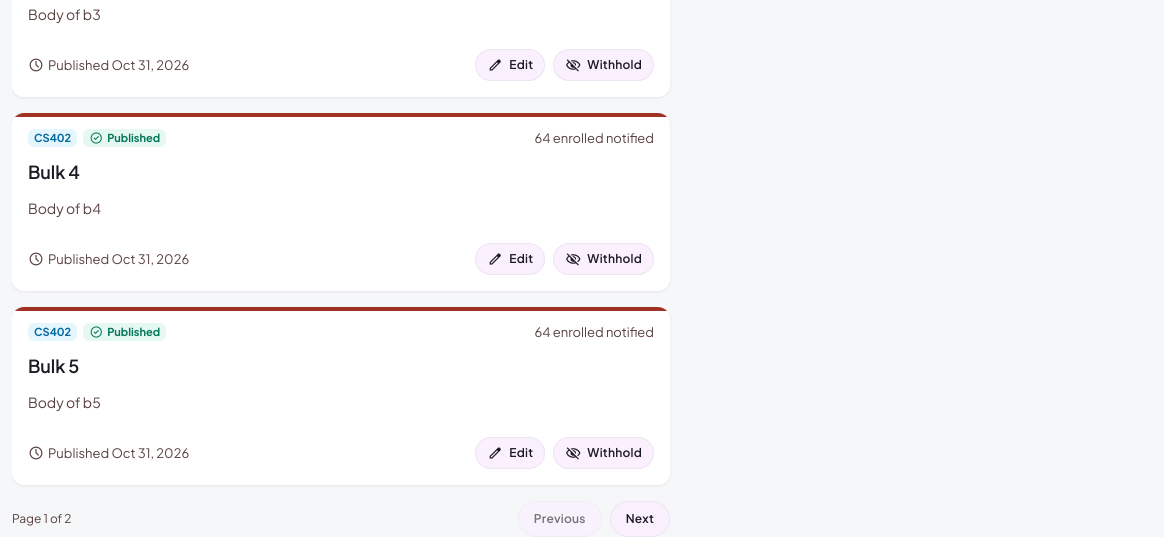
Scenario: feed › pages through long lists and expands long messages
This screenshot has width=1164, height=537.
(page scrolled)
Expected: the text "Page 1 of 2" is shown, [12, 510, 72, 528]
Click the button "Next": (640, 519) [610, 501, 670, 536]
(page scrolled)
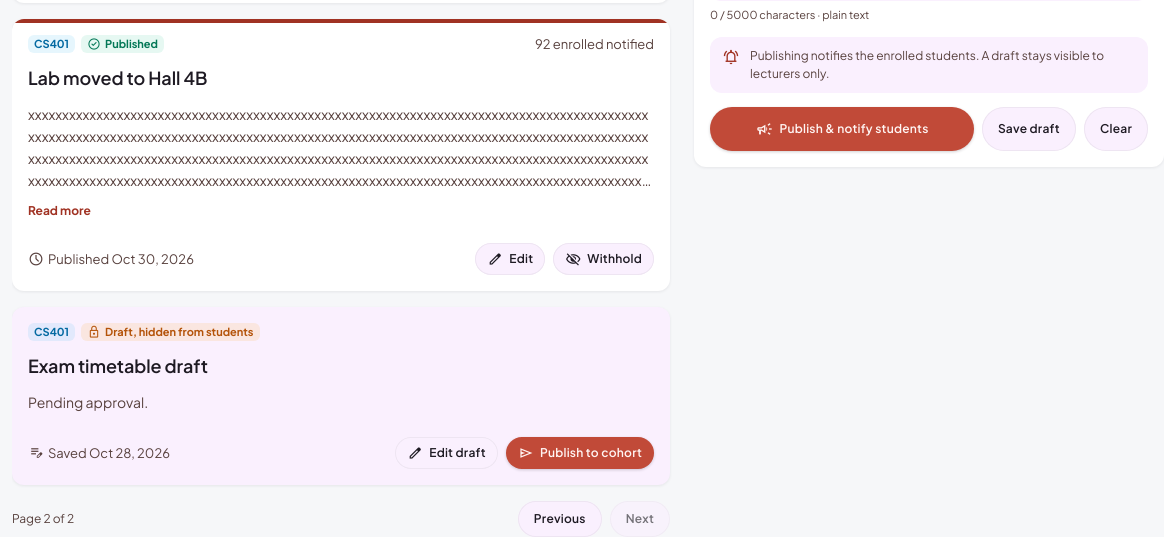
Expected: the text "Page 2 of 2" is shown, [12, 510, 74, 528]
Click the button "Read more": (59, 211) [28, 203, 91, 219]
(page scrolled)
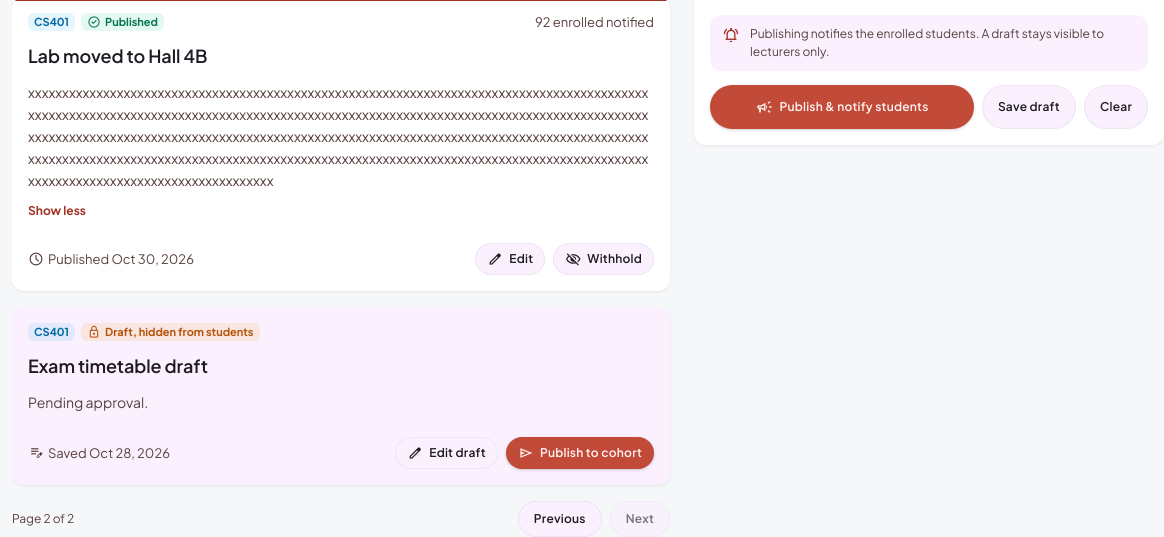
Expected: the button "Show less" is shown, [28, 203, 86, 219]
Click the button "Previous": (560, 519) [518, 501, 602, 536]
(page scrolled)
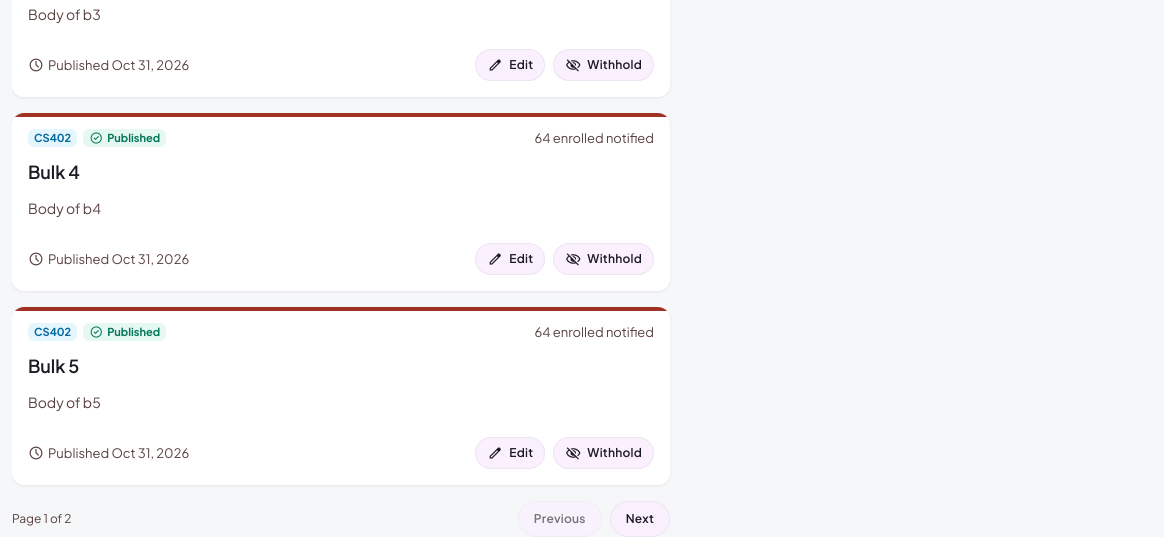
Expected: the text "Page 1 of 2" is shown, [12, 510, 72, 528]
